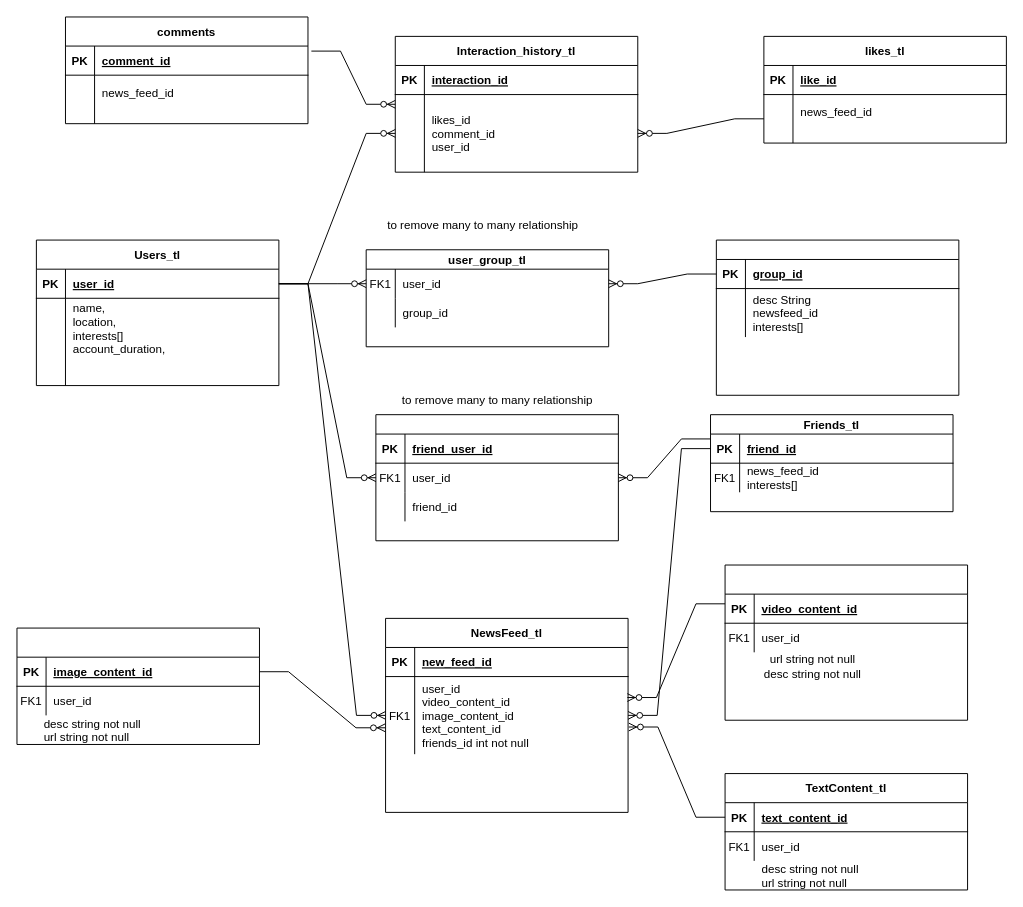
Image size: 1023x907. Some labels were removed from this diagram. The box of each missing label's shape, as (x1, y1, x2, y2) in pixels:
friends_user_tl: (375, 414, 618, 541)
Groups_tl: (715, 239, 959, 395)
ImageContent_tl: (16, 627, 259, 744)
VideoContent_tl: (724, 564, 968, 720)
